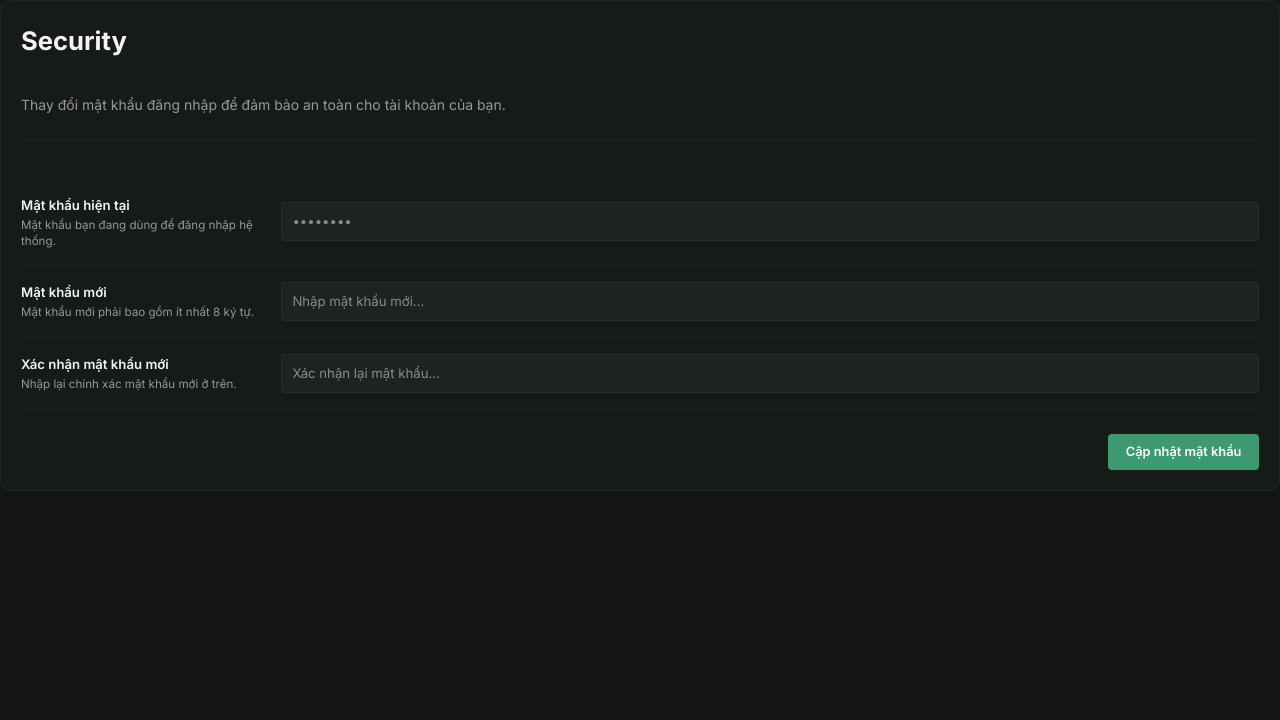
Test: ProfileSecurityTab — logic đổi mật khẩu (PR-008) › PR-028: newPassword < 8 ký tự → fieldErrors.newPassword inline + focus, không toast, không gọi changePassword
Step 1. Type "old-pass-1" into the password field with id "currentPassword" → (770, 222), box [281, 202, 1259, 241]
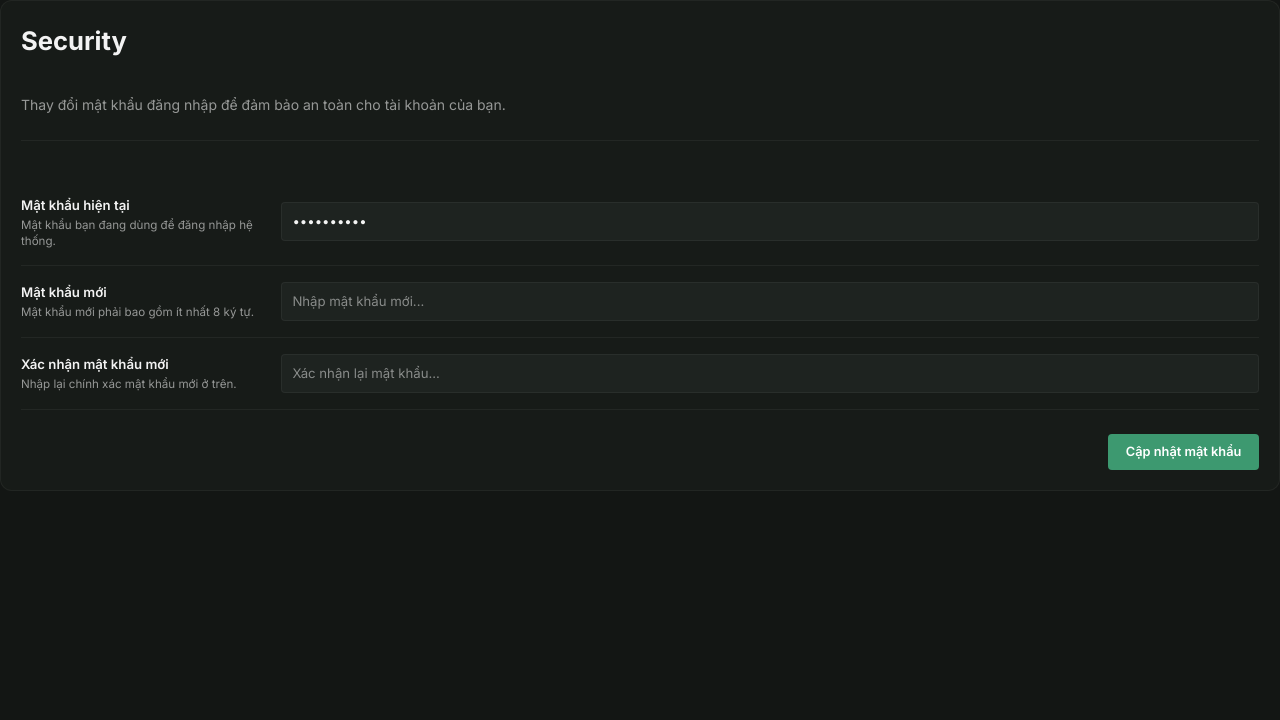
Step 2. Type "short" into the password field with id "newPassword" → (770, 301), box [281, 282, 1259, 321]
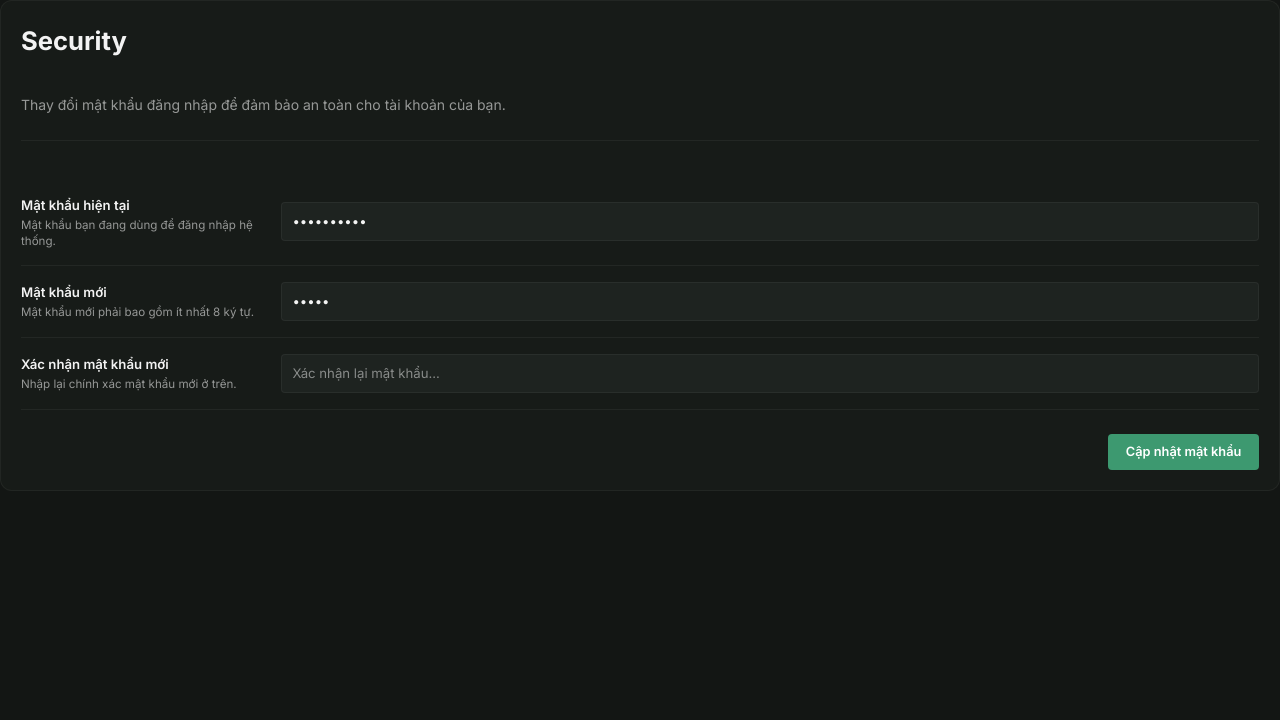
Step 3. Type "short" into the password field with id "confirmNewPassword" → (770, 373), box [281, 354, 1259, 393]
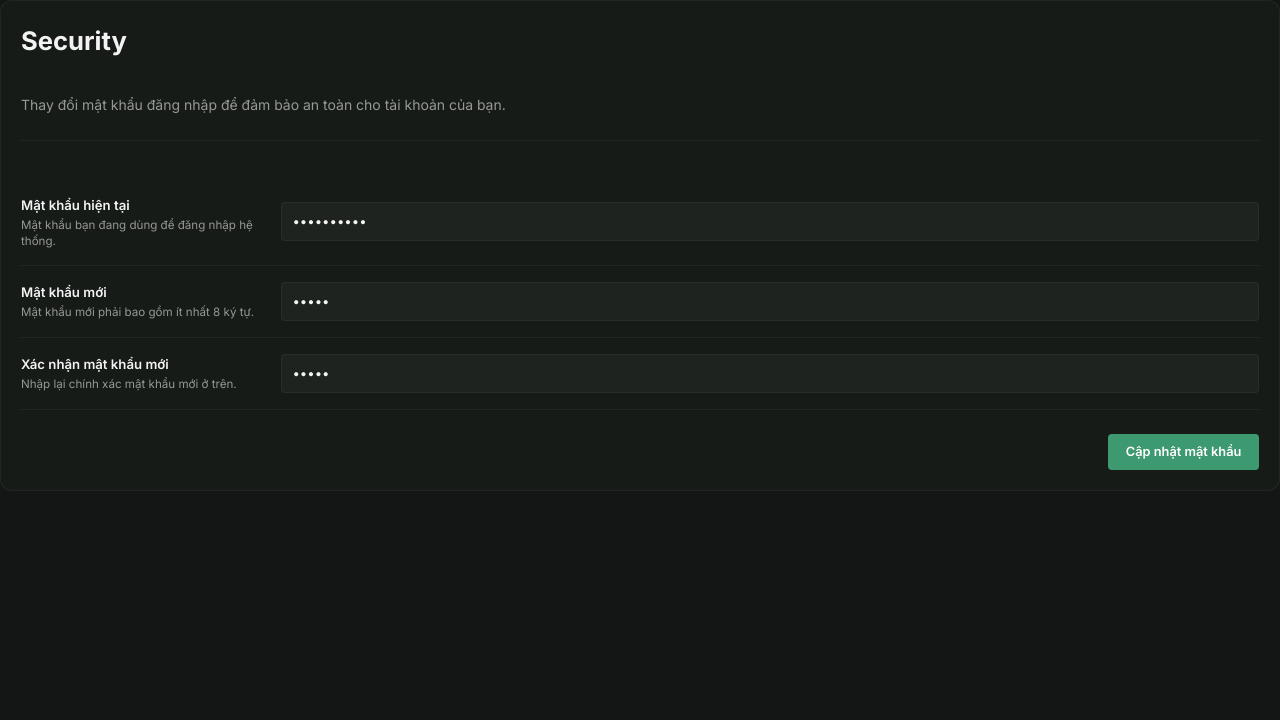
Step 4. Submit the form, box [21, 195, 1259, 470]
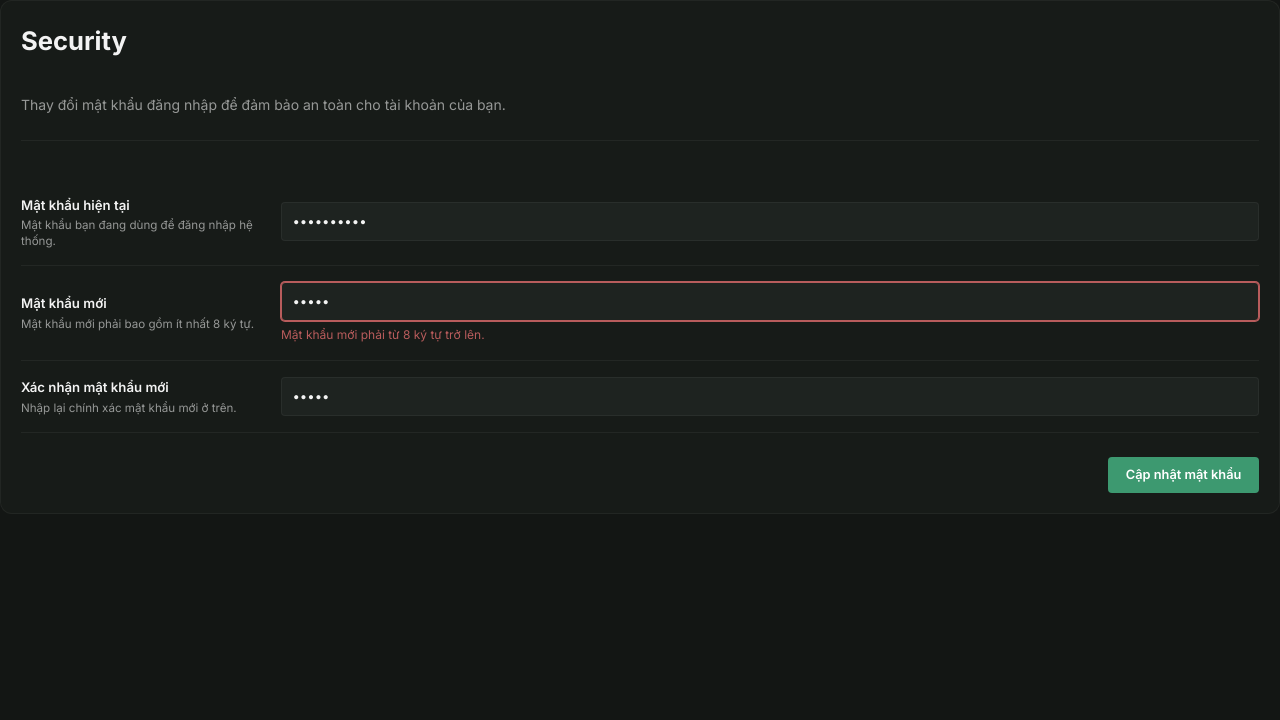
Result: the message with id "newPassword-error" reads "Mật khẩu mới phải từ 8 ký tự trở lên." at [281, 327, 485, 342]
